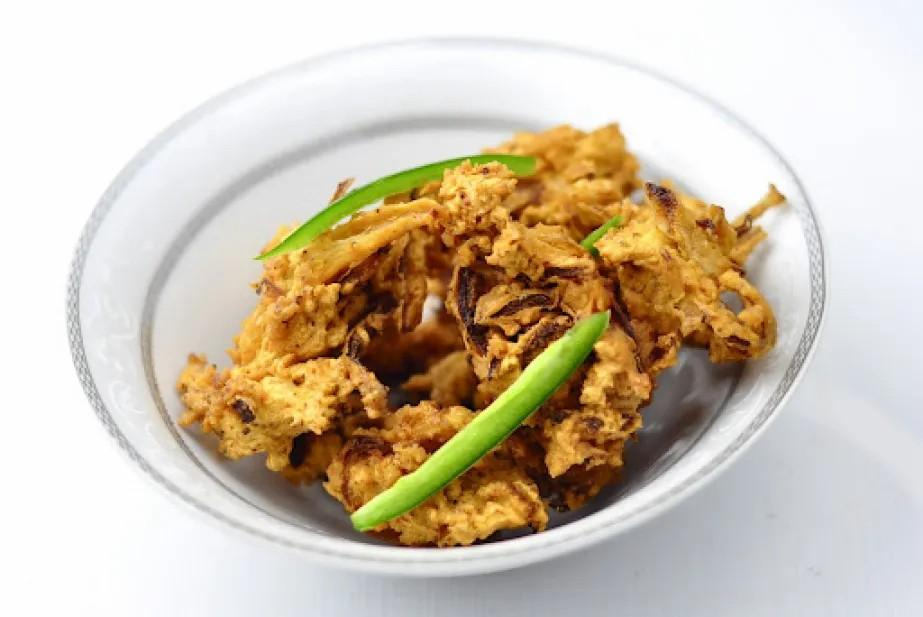OnionPakoda: (182, 117, 785, 547)
